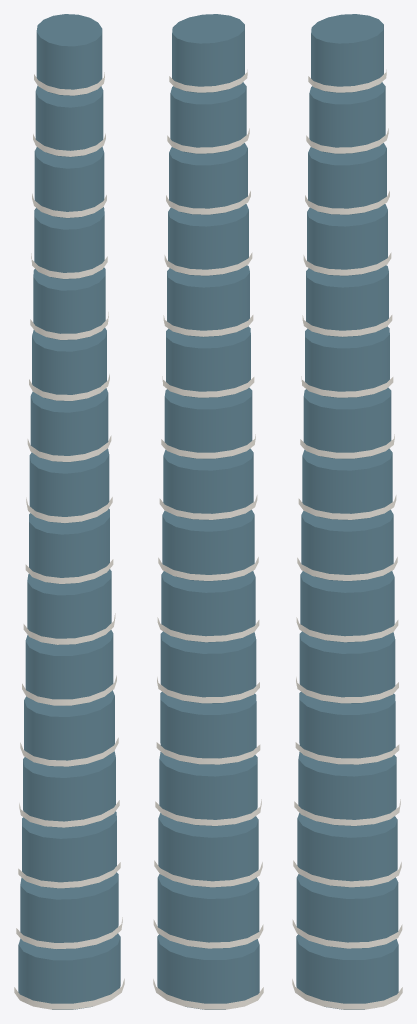
File: newfoundland-quay.glb
The picture shows the model from 3 angles, left to right: view 1: azimuth 30°, elevation 25°; view 2: azimuth 150°, elevation 25°; view 3: azimuth 330°, elevation 25°; orthographic projection.
Parts seen in each view (by area): view 1: newfoundland-quay, newfoundland-quay-helix; view 2: newfoundland-quay, newfoundland-quay-helix; view 3: newfoundland-quay, newfoundland-quay-helix.
Boxes of the visible parts, box(x1,y1,x2,y2) form: newfoundland-quay: box(14, 14, 124, 1009); newfoundland-quay-helix: box(18, 933, 120, 1009); newfoundland-quay: box(153, 14, 263, 1009); newfoundland-quay-helix: box(157, 934, 259, 1009); newfoundland-quay: box(292, 14, 402, 1009); newfoundland-quay-helix: box(296, 934, 398, 1009).
Bounding box in the file's own units: 0.2716 × 2.52 × 0.2328.
